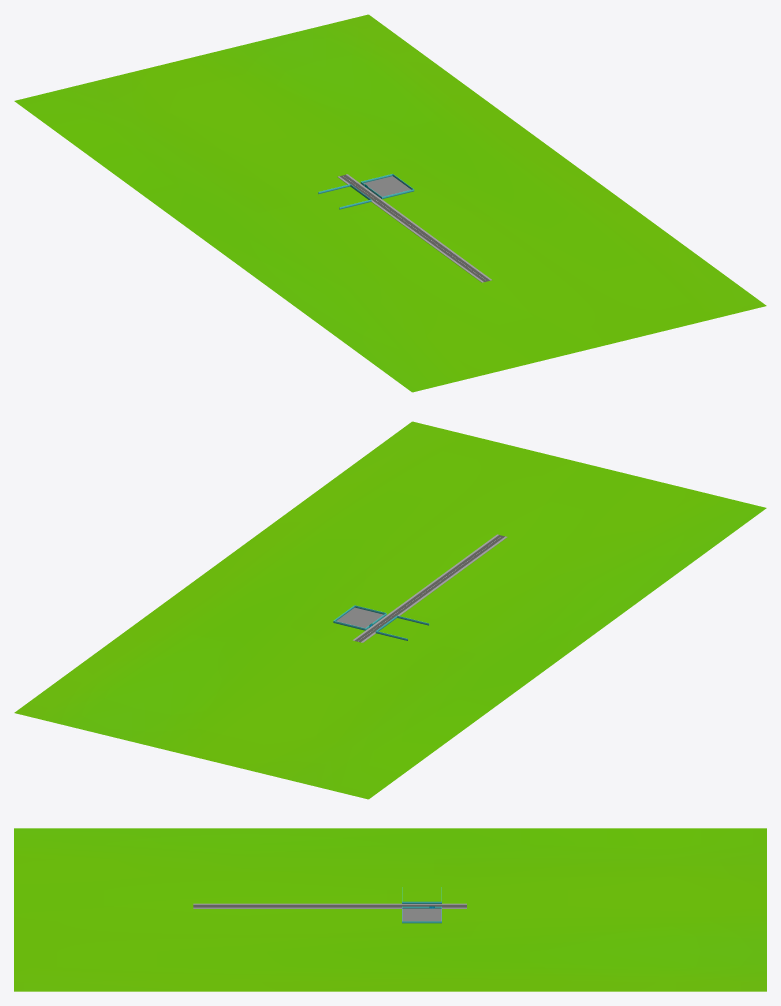
The model's file is Env itr 2.fbx.
The picture shows the model from 3 angles, top to bottom: view 1: azimuth 30°, elevation 25°; view 2: azimuth 150°, elevation 25°; view 3: azimuth 270°, elevation 25°; orthographic projection. The views are drawn at different scales.
Parts seen in each view (by area): view 1: Plane, Road; view 2: Plane, Road; view 3: Plane, Road, floor, Wall.
Part boxes in pixels (x1,y1,x2,y2): Plane: (14,14,766,392); Road: (337,174,492,282); Plane: (14,421,766,799); Road: (352,534,507,642); Plane: (14,828,766,991); Road: (193,903,466,908); floor: (402,908,441,921); Wall: (402,887,441,923).
Size of the model in its own units: 14693 by 157 by 28575.
Materials: 5 (3 with a texture image).
